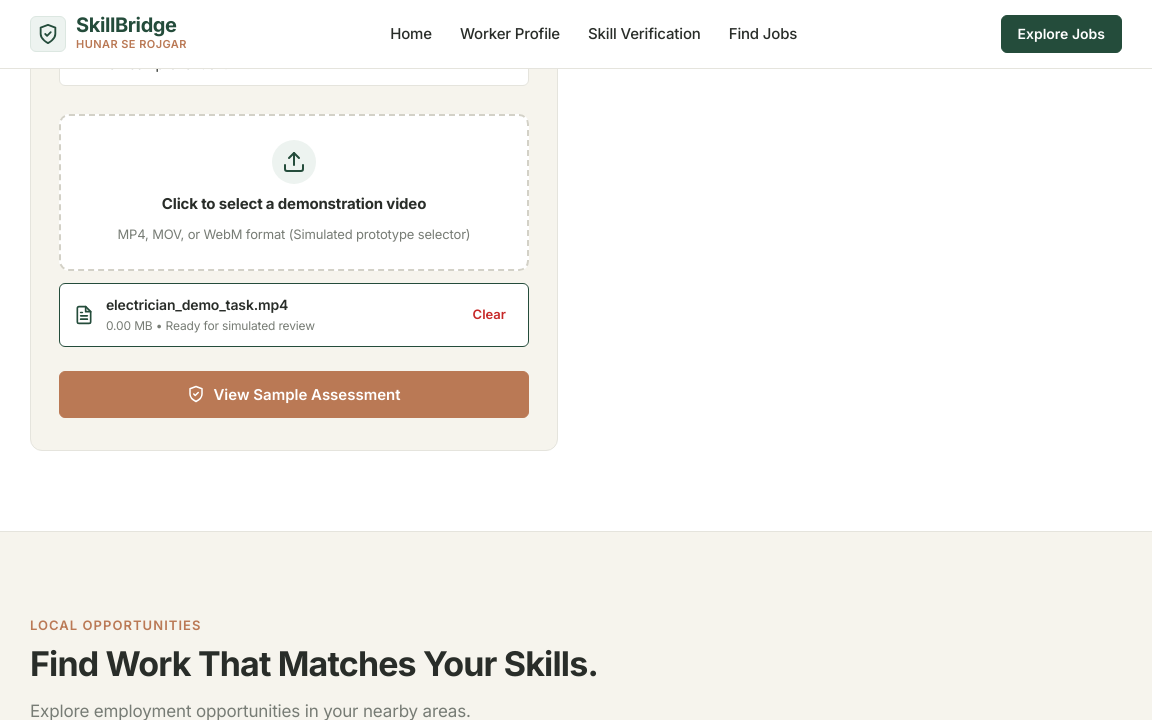
SkillBridge Frontend Prototype v0.1 › handles video file selection and displays sample skill assessment with required disclaimer
Earlier steps of the test are not shown.
(page scrolled)
Expected: the text "electrician_demo_task.mp4" is shown, [106,294,315,316]
Click the button "View Sample Assessment" at (294, 394), box [59,371,529,418]
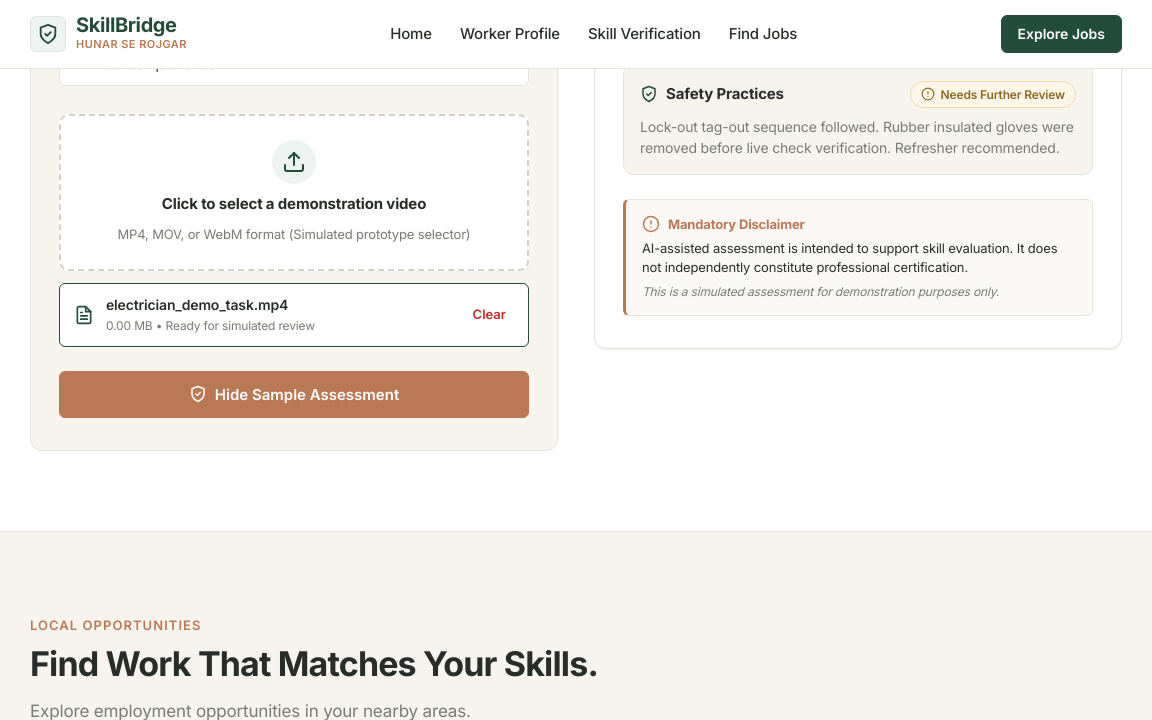
Expected: the text "Safety Practices" is shown, [666,82,784,106]
Expected: the text "Needs Further Review" is shown, [910,81,1076,108]
Expected: the text "AI-assisted assessment is intended to support skill evaluation. It does not independently constitute professional certif" is shown, [642,240,1057,275]
